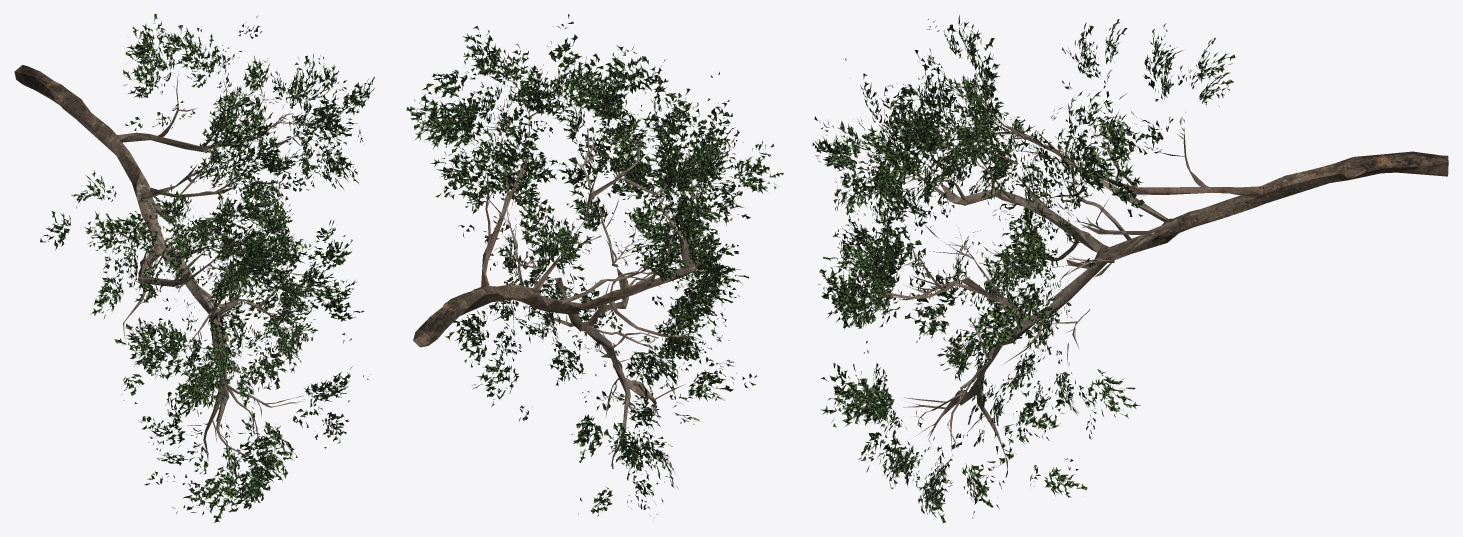
3 renders of one model, left to right at view 1: azimuth 30°, elevation 25°; view 2: azimuth 150°, elevation 25°; view 3: azimuth 270°, elevation 25°, orthographic. The views are drawn at different scales.
Visible parts, largest first — view 1: nodes[0]; view 2: nodes[0]; view 3: nodes[0].
Boxes of the visible parts, x1,y1,x2,y2 form: nodes[0]: [14, 14, 374, 522]; nodes[0]: [406, 14, 783, 517]; nodes[0]: [812, 15, 1448, 522].
Size of the model in its own units: 2.88 by 4.2 by 4.55.
Materials: 3 (3 with a texture image).
